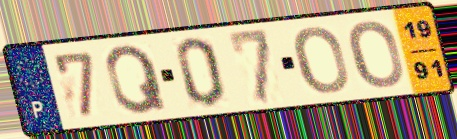0: (174, 34, 230, 110)
7: (225, 25, 273, 107), (49, 48, 96, 120)
O: (291, 24, 352, 97), (346, 19, 407, 91)
Q: (103, 42, 171, 117)
